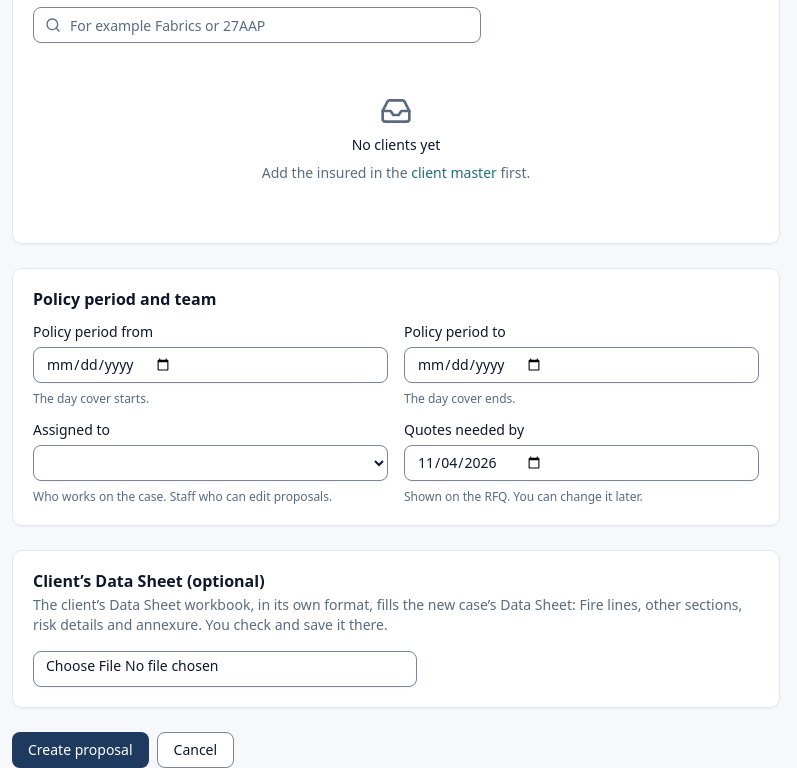
NewProposalForm › asks for a client before creating
(page scrolled)
Expected: the text "No clients yet" is shown, [352,135,440,155]
Click the button "Create proposal": (80, 750) [12,732,148,767]
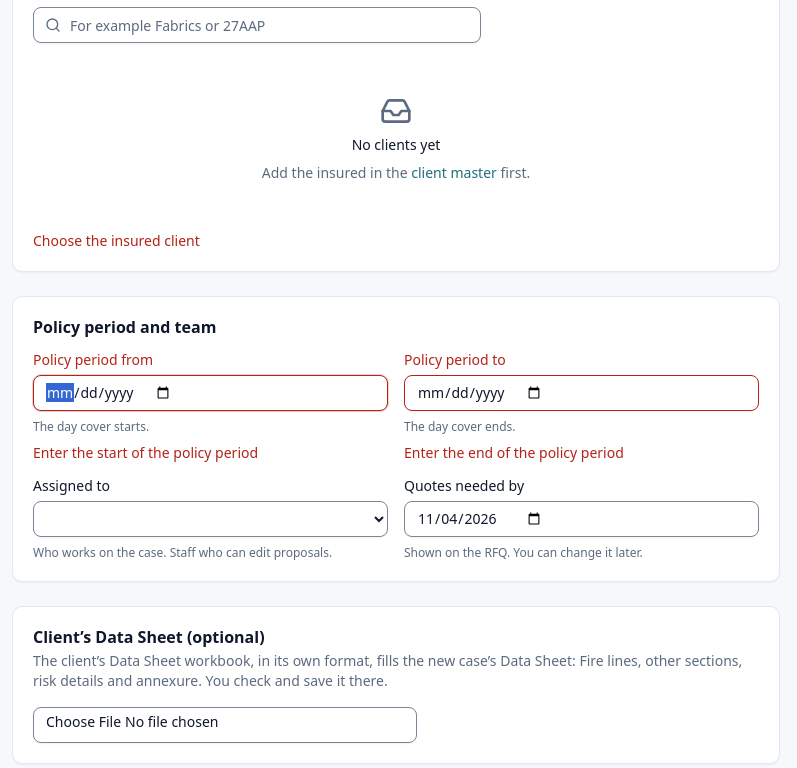
Expected: the text "Choose the insured client" is shown, [33,231,200,250]
